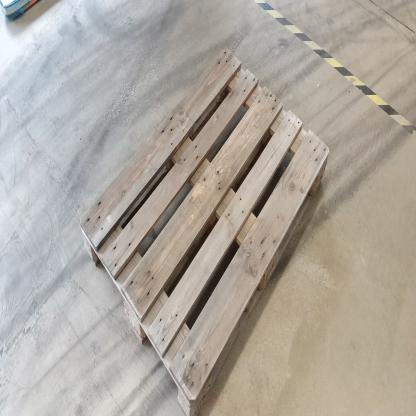BoxFace: (64, 44, 336, 416)
